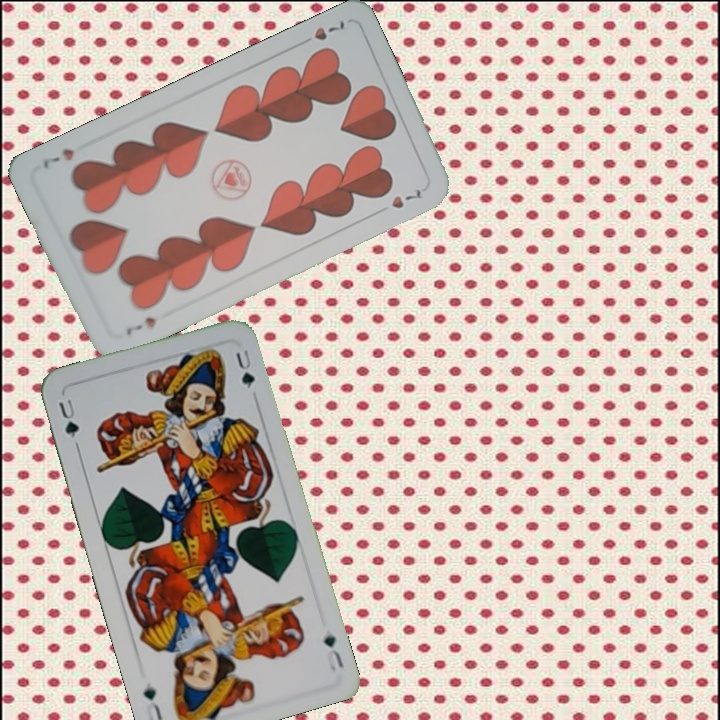GU: (54, 394, 82, 441), (319, 631, 346, 673)
H7: (294, 15, 348, 49), (122, 313, 159, 339)
